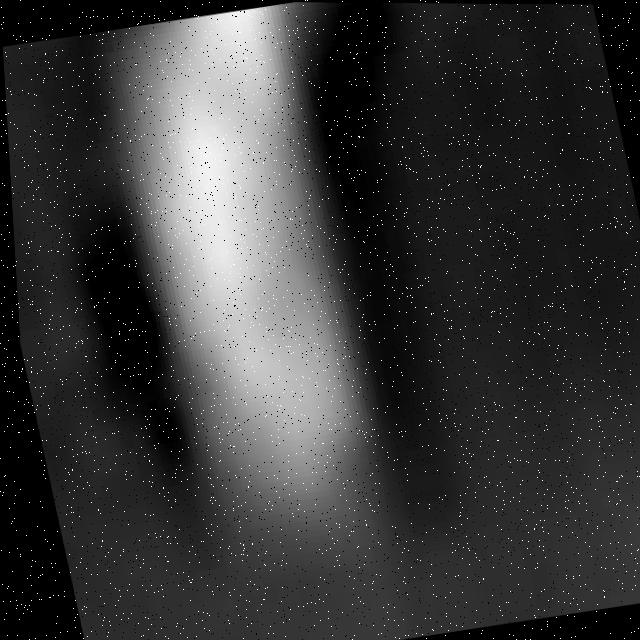person: (84, 1, 448, 577)
